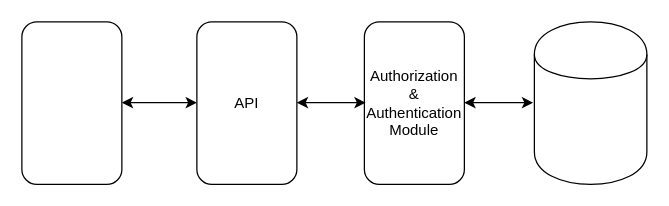
Some shapes in this 669 by 206 pixel diagram are drawn without their labels. Each missing label, with the centre of its shape:
"Database" belongs at (590,102).
"Web Application" belongs at (71,102).
